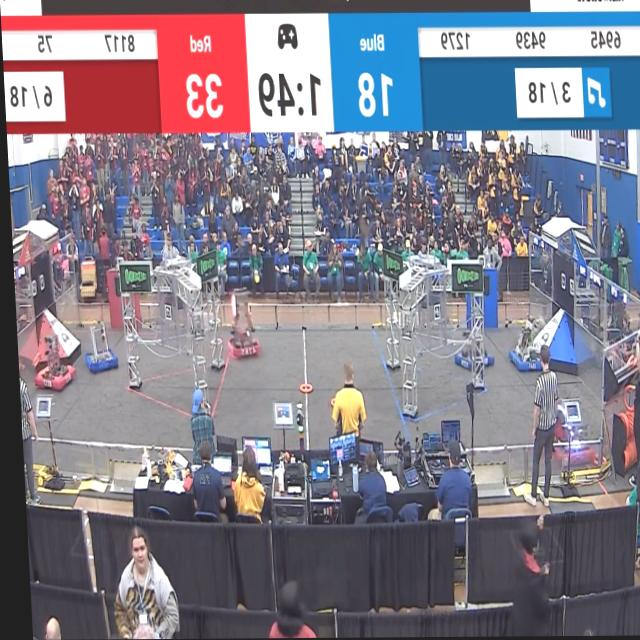Robot: (30, 320, 74, 396), (548, 394, 590, 466), (501, 310, 540, 379), (223, 294, 258, 363), (450, 317, 490, 377), (80, 317, 114, 378)
